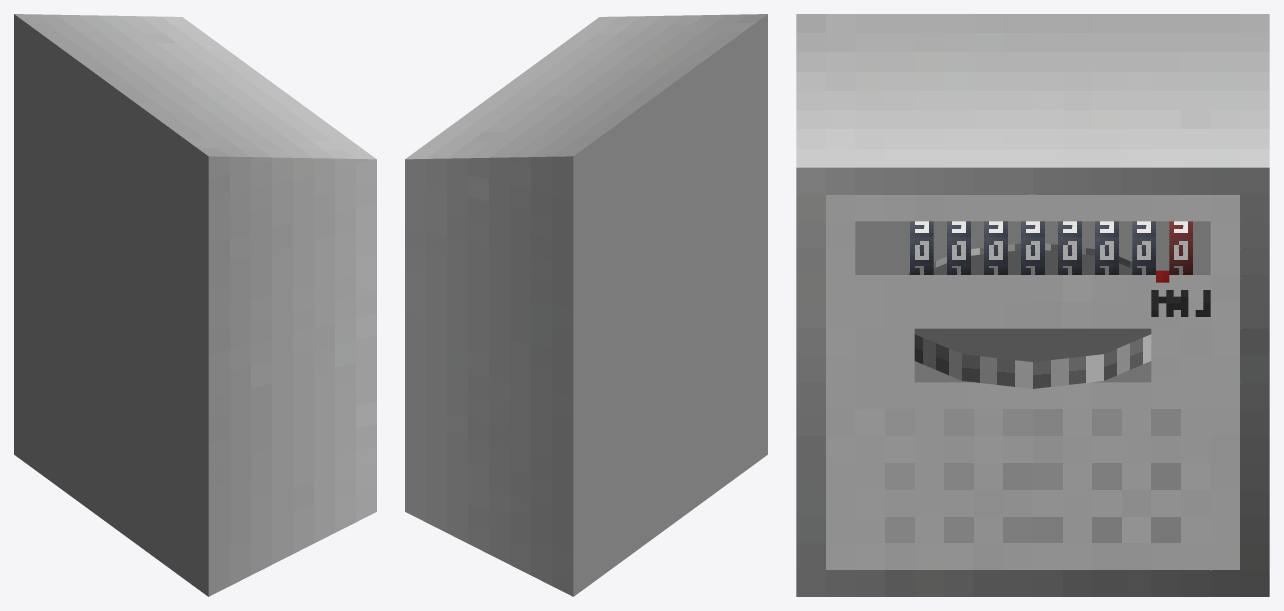
Rendered from EnergyMeter.obj.
3 views of the same model, side by side, from view 1: azimuth 30°, elevation 25°; view 2: azimuth 150°, elevation 25°; view 3: azimuth 270°, elevation 25° (orthographic). The views are drawn at different scales.
Parts seen in each view (by area): view 1: Base; view 2: Base; view 3: Base, PowerDisk, NumberWheel0, NumberWheel1, NumberWheel2, NumberWheel3, NumberWheel4, NumberWheel5, NumberWheel6, NumberWheel7, TextMJ.
Boxes of the visible parts, <box> form: Base: <box>14,14,376,596</box>; Base: <box>405,14,767,596</box>; Base: <box>796,14,1269,596</box>; PowerDisk: <box>908,243,1151,388</box>; NumberWheel0: <box>1169,221,1192,274</box>; NumberWheel1: <box>1132,221,1155,274</box>; NumberWheel2: <box>1095,221,1118,274</box>; NumberWheel3: <box>1058,221,1081,274</box>; NumberWheel4: <box>1021,221,1044,274</box>; NumberWheel5: <box>984,221,1007,274</box>; NumberWheel6: <box>947,221,970,274</box>; NumberWheel7: <box>910,221,933,274</box>; TextMJ: <box>1151,290,1210,316</box>.
Size of the model in its own units: 0.3 by 0.625 by 0.5.
Materials: 1 (1 with a texture image).
